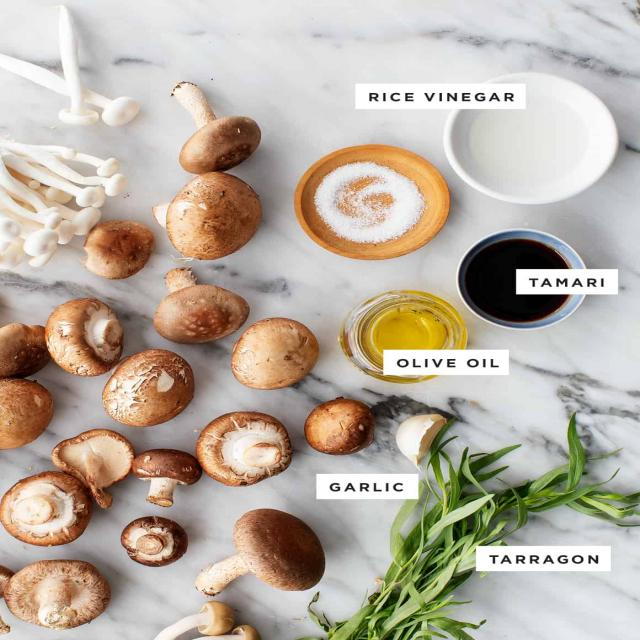Mushroom: (0, 3, 144, 132), (0, 134, 129, 273), (195, 506, 333, 599), (151, 170, 267, 261), (165, 80, 264, 176), (0, 558, 114, 630), (153, 266, 254, 345), (195, 408, 294, 487), (50, 424, 138, 508), (229, 314, 322, 392), (0, 470, 94, 547), (306, 394, 380, 460), (84, 218, 154, 280), (130, 446, 200, 508), (118, 513, 190, 568), (149, 601, 236, 640)
